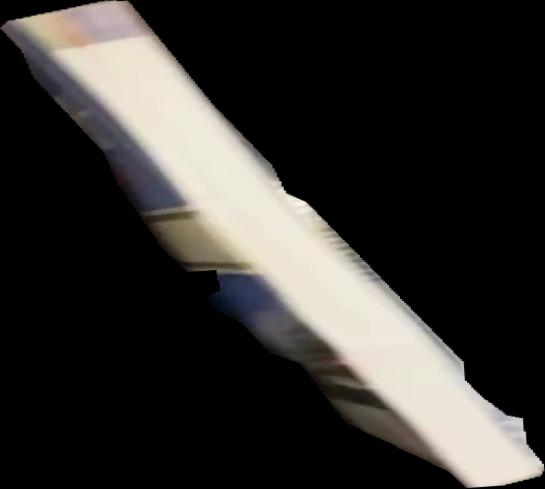backward: (1, 1, 545, 489)
